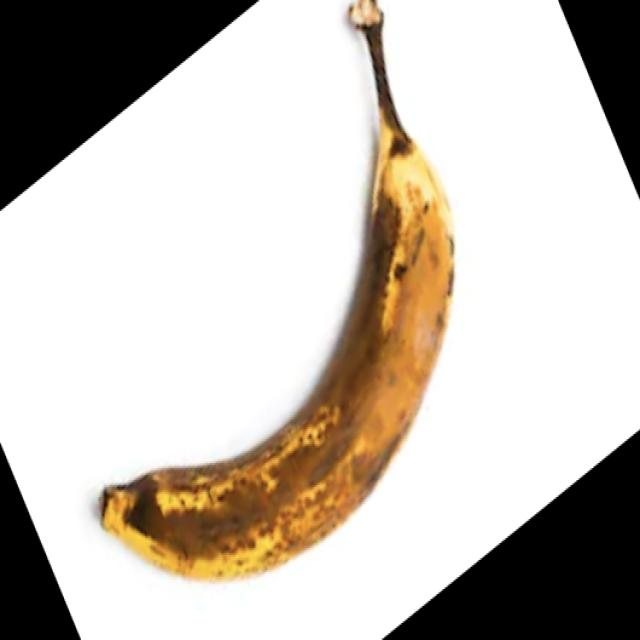overripe: (98, 28, 463, 579)
